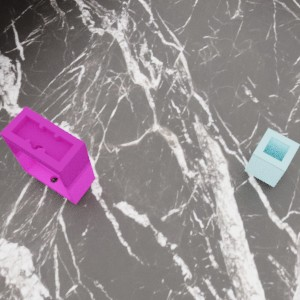lego: (0, 106, 95, 204), (244, 128, 300, 187)
